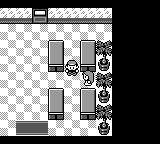main: (65, 61, 79, 75)
no-caminable: (0, 0, 159, 143), (96, 40, 112, 136), (48, 8, 112, 24), (80, 40, 96, 73), (48, 88, 64, 121), (48, 40, 64, 72), (80, 88, 96, 120), (1, 8, 32, 23)
npc: (82, 71, 94, 86)
puerta: (13, 120, 51, 136), (32, 9, 48, 22)
